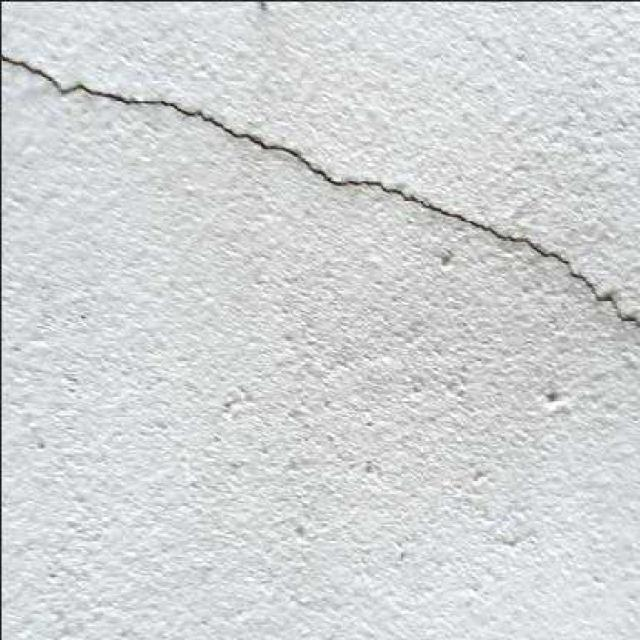D00: (0, 54, 640, 329)
